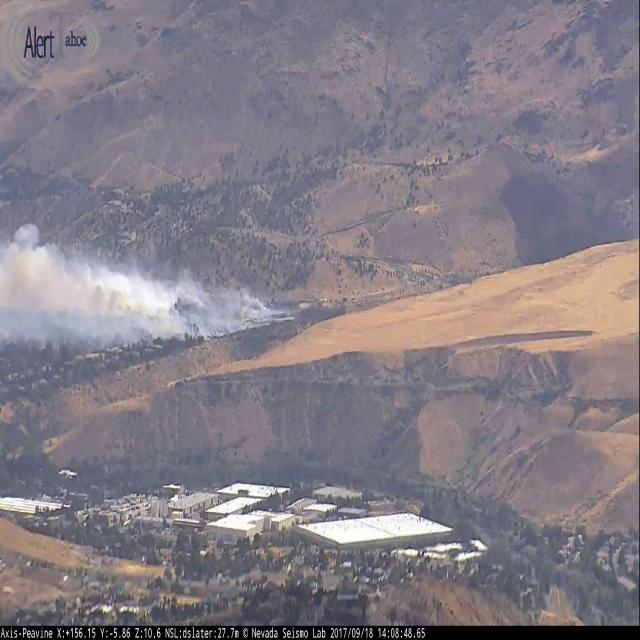smoke: (0, 220, 288, 337)
